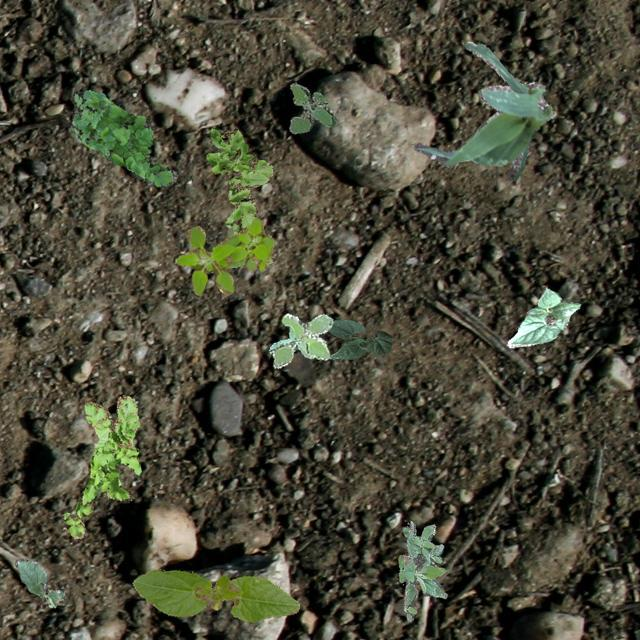crop: (412, 40, 554, 180), (132, 568, 298, 622), (506, 286, 580, 346), (328, 318, 392, 358), (14, 558, 64, 606)
weed: (62, 394, 140, 538), (70, 88, 176, 185), (206, 126, 272, 266), (175, 218, 274, 294), (398, 520, 446, 620), (268, 313, 332, 367), (288, 81, 336, 132)
